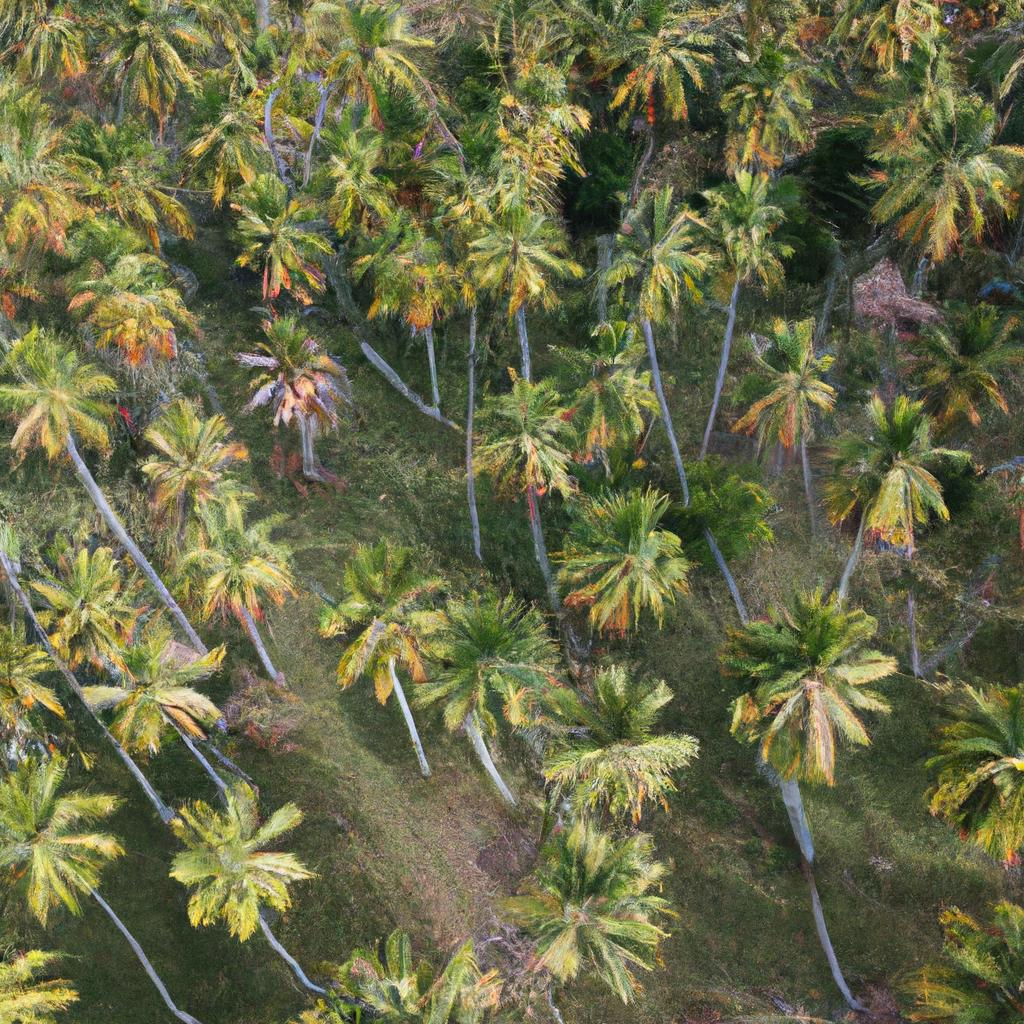coconut_tree: (697, 588, 900, 797), (507, 820, 697, 999), (516, 645, 707, 818), (323, 521, 475, 713), (159, 780, 334, 939), (540, 481, 700, 643), (821, 391, 973, 561), (448, 354, 586, 505), (0, 315, 118, 474), (729, 313, 842, 474), (18, 543, 148, 681), (169, 513, 296, 634), (134, 385, 242, 515)
